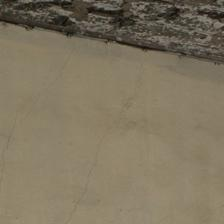Crack: (11, 15, 145, 94), (21, 10, 128, 71)
